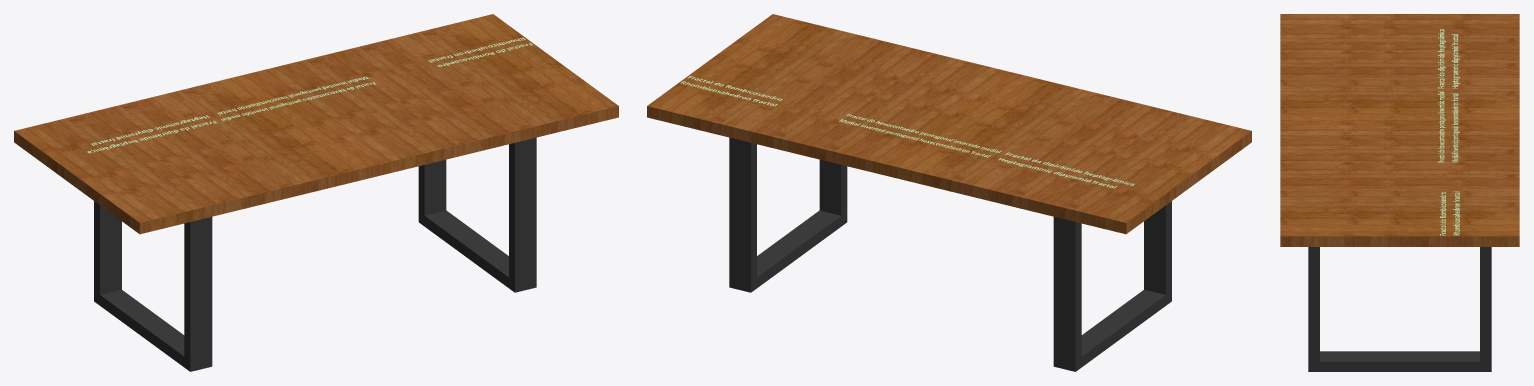
File: fractal_nonconvex6b.glb
3 views of the same model, side by side, from view 1: azimuth 30°, elevation 25°; view 2: azimuth 150°, elevation 25°; view 3: azimuth 270°, elevation 25° (orthographic). The views are drawn at different scales.
Parts seen in each view (by area): view 1: object 1, Composant#1 (×2), Fractal do hexec, Fractal da dipir; view 2: object 1, Composant#1 (×2), Fractal do hexec, Fractal da dipir; view 3: object 1, Composant#1, Fractal do hexec, Fractal da dipir, Fractal do Rombi.
Part boxes in pixels (x1,y1,x2,y2): object 1: (14,14,618,234); Composant#1 (×2): (94,137,536,371); Fractal do hexec: (217,76,375,121); Fractal da dipir: (87,115,216,153); object 1: (647,14,1251,234); Composant#1 (×2): (729,137,1171,371); Fractal do hexec: (839,114,1001,157); Fractal da dipir: (998,152,1134,188); object 1: (1280,14,1519,246); Composant#1: (1308,247,1491,371); Fractal do hexec: (1438,91,1459,162); Fractal da dipir: (1438,29,1459,88); Fractal do Rombi: (1440,191,1459,235).
Bounding box in the file's own units: 2.2 × 0.771 × 1.
3 materials, 1 textured.
